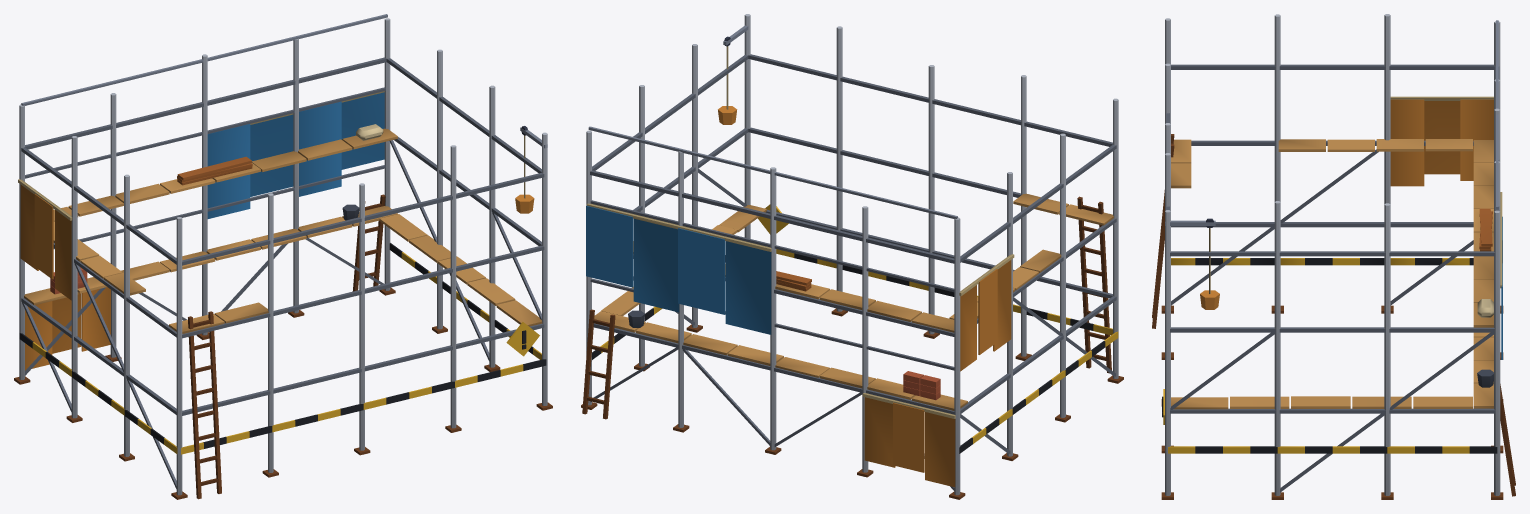
File: b_scaffold_4x3.glb
The picture shows the model from 3 angles, left to right: view 1: azimuth 30°, elevation 25°; view 2: azimuth 150°, elevation 25°; view 3: azimuth 270°, elevation 25°; orthographic projection. The views are drawn at different scales.
Visible parts, largest first — view 1: body, sway_tarp1, sway_tarp3, sway_tarp2; view 2: body, sway_tarp1, sway_tarp2, sway_tarp3; view 3: body, sway_tarp3, sway_tarp1.
Boxes of the visible parts, box(x1,y1,x2,y2) form: body: box(14, 14, 552, 499); sway_tarp1: box(207, 91, 384, 218); sway_tarp3: box(18, 179, 72, 300); sway_tarp2: box(25, 287, 110, 370); body: box(581, 14, 1123, 499); sway_tarp1: box(586, 203, 771, 334); sway_tarp2: box(862, 393, 955, 487); sway_tarp3: box(959, 254, 1014, 371); body: box(1152, 14, 1515, 499); sway_tarp3: box(1390, 96, 1493, 186); sway_tarp1: box(1500, 192, 1502, 359).
Bounding box in the file's own units: 8.15 × 5.85 × 6.5.
